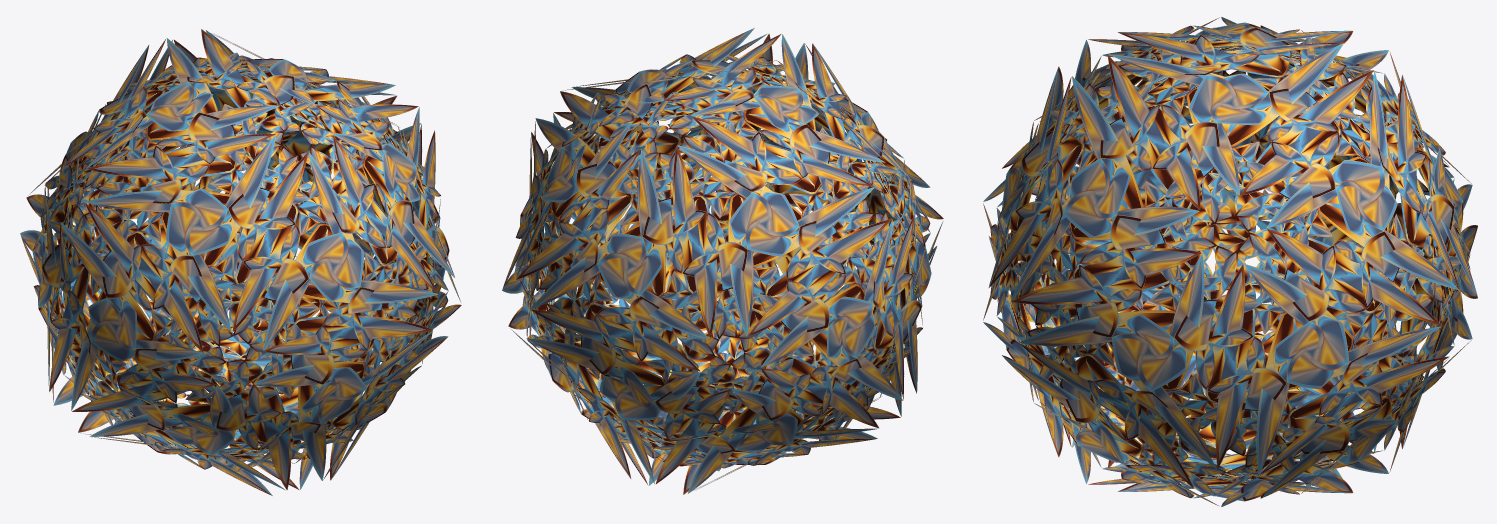
The model's file is MedialPentagonalHexecontahedron1.gltf.
The picture shows the model from 3 angles, left to right: view 1: azimuth 30°, elevation 25°; view 2: azimuth 150°, elevation 25°; view 3: azimuth 270°, elevation 25°; orthographic projection. The views are drawn at different scales.
Parts seen in each view (by area): view 1: MedialPentagonalHexecontahedron1; view 2: MedialPentagonalHexecontahedron1; view 3: MedialPentagonalHexecontahedron1.
Part boxes in pixels (left/top/right/bottom): MedialPentagonalHexecontahedron1: left=20, top=29, right=461, bottom=495; MedialPentagonalHexecontahedron1: left=502, top=28, right=943, bottom=494; MedialPentagonalHexecontahedron1: left=983, top=17, right=1477, bottom=506.
Size of the model in its own units: 2.46 by 2.46 by 2.46.
Materials: 1 (1 with a texture image).
